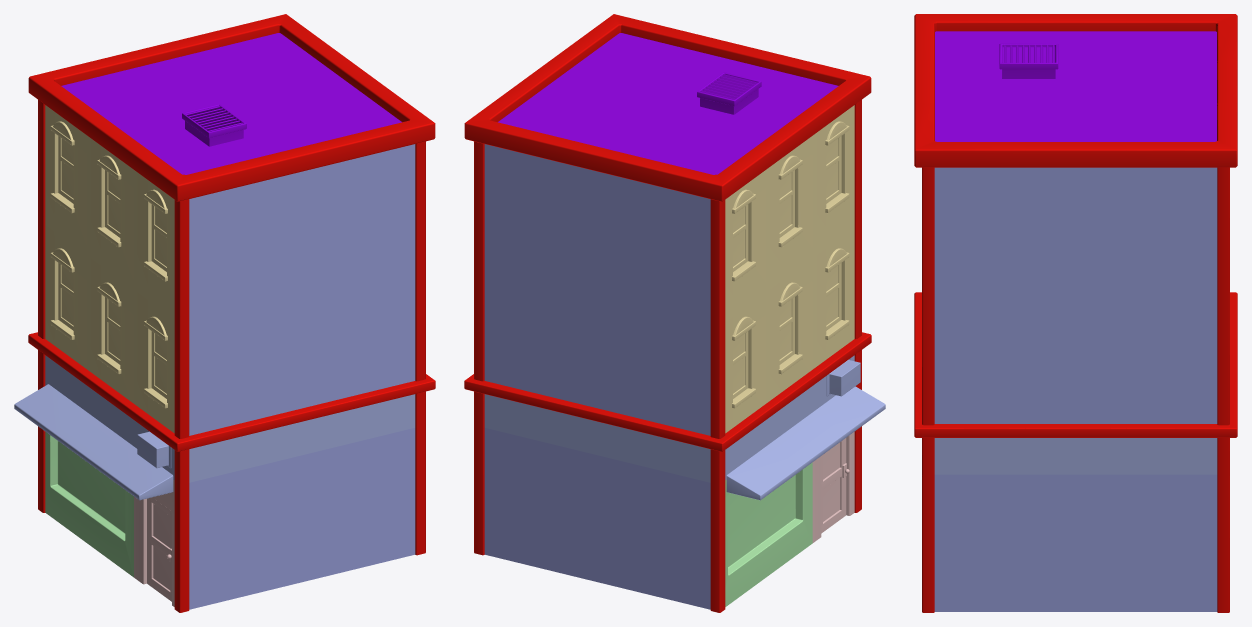
The picture shows the model from 3 angles, left to right: view 1: azimuth 30°, elevation 25°; view 2: azimuth 150°, elevation 25°; view 3: azimuth 270°, elevation 25°; orthographic projection. The views are drawn at different scales.
Visible parts, largest first — view 1: Tile pared Puerta.148, Tile pared Puerta.158, Tile pared Puerta.156, Tile pared Puerta.161, Tile pared Puerta.157, Tile pared Puerta.159, Tile pared Puerta.160, Tile pared Puerta.162, Tile pared Puerta.163, Tile pared Puerta.146, Cube.317, Tile pared Puerta.169 (+54 smaller); view 2: Tile pared Puerta.181, Tile pared Puerta.184, Tile pared Puerta.182, Tile pared Puerta.187, Tile pared Puerta.183, Tile pared Puerta.185, Tile pared Puerta.186, Tile pared Puerta.188, Tile pared Puerta.189, Tile pared Puerta.146, Cube.317, Tile pared Puerta.062 (+54 smaller); view 3: Tile pared Puerta.190, Tile pared Puerta.193, Tile pared Puerta.196, Tile pared Puerta.191, Tile pared Puerta.192, Tile pared Puerta.194, Tile pared Puerta.195, Tile pared Puerta.197, Tile pared Puerta.198, Plane.211, Plane.212, Tile pared Puerta.178 (+30 smaller).
Part boxes in pixels (x1,y1,x2,y2): Tile pared Puerta.148: (261, 445, 342, 591); Tile pared Puerta.158: (261, 276, 342, 417); Tile pared Puerta.156: (342, 428, 415, 572); Tile pared Puerta.161: (261, 162, 342, 295); Tile pared Puerta.157: (189, 465, 261, 609); Tile pared Puerta.159: (342, 258, 415, 398); Tile pared Puerta.160: (189, 296, 261, 435); Tile pared Puerta.162: (342, 144, 415, 276); Tile pared Puerta.163: (189, 181, 261, 313); Tile pared Puerta.146: (87, 247, 133, 403); Cube.317: (14, 384, 173, 500); Tile pared Puerta.169: (45, 217, 87, 369); Tile pared Puerta.181: (557, 445, 638, 591); Tile pared Puerta.184: (557, 276, 638, 417); Tile pared Puerta.182: (484, 428, 557, 572); Tile pared Puerta.187: (557, 162, 638, 295); Tile pared Puerta.183: (638, 465, 710, 609); Tile pared Puerta.185: (484, 258, 557, 398); Tile pared Puerta.186: (638, 296, 710, 435); Tile pared Puerta.188: (484, 144, 557, 276); Tile pared Puerta.189: (638, 181, 710, 313); Tile pared Puerta.146: (766, 247, 812, 403); Cube.317: (726, 386, 885, 500); Tile pared Puerta.062: (758, 462, 812, 577); Tile pared Puerta.190: (1025, 474, 1126, 611); Tile pared Puerta.193: (1025, 292, 1126, 423); Tile pared Puerta.196: (1025, 167, 1126, 291); Tile pared Puerta.191: (934, 474, 1025, 611); Tile pared Puerta.192: (1126, 474, 1217, 611); Tile pared Puerta.194: (934, 292, 1025, 423); Tile pared Puerta.195: (1126, 292, 1217, 423); Tile pared Puerta.197: (934, 167, 1025, 291); Tile pared Puerta.198: (1126, 167, 1217, 291); Plane.211: (1025, 69, 1126, 111); Plane.212: (1126, 69, 1216, 111); Tile pared Puerta.178: (1025, 438, 1126, 474).
Bounding box in the file's own units: 705 × 1036 × 641.
